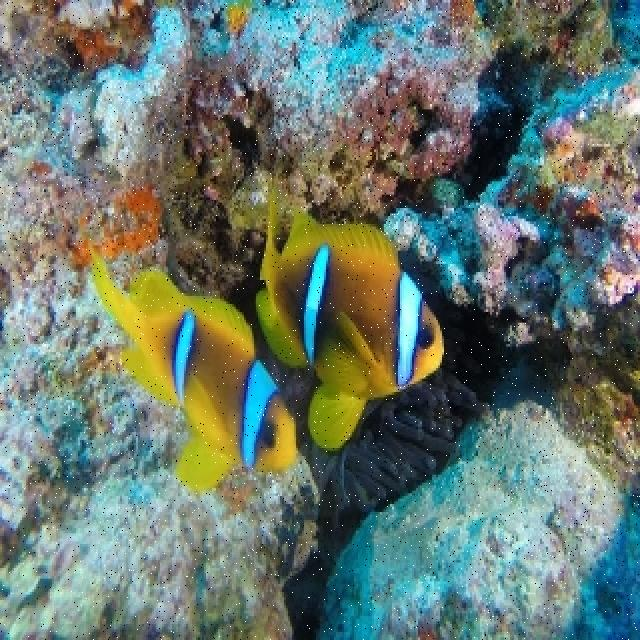fish: (255, 195, 443, 450), (91, 256, 297, 488)
reefs: (0, 0, 497, 637), (321, 291, 638, 637), (385, 1, 638, 356), (307, 365, 488, 519)
